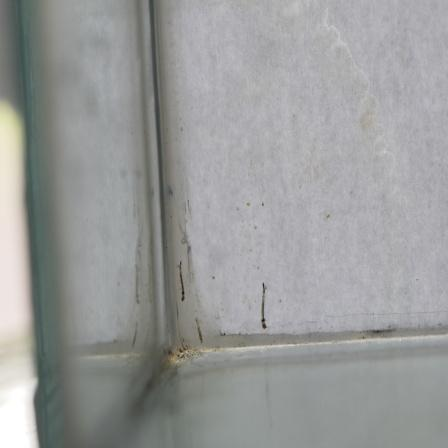Jentik-Nyamuk: (175, 257, 191, 307), (258, 279, 271, 332)
